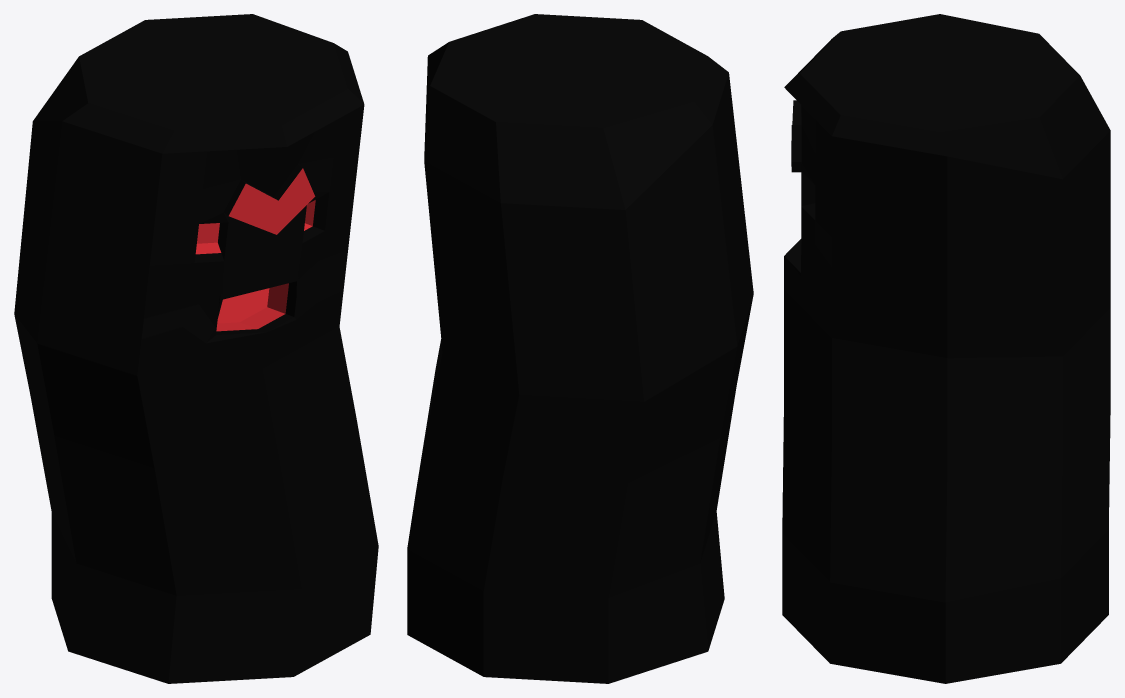
The model's file is Angry bag.glb.
The picture shows the model from 3 angles, left to right: view 1: azimuth 30°, elevation 25°; view 2: azimuth 150°, elevation 25°; view 3: azimuth 270°, elevation 25°; orthographic projection.
Parts seen in each view (by area): view 1: Cylinder; view 2: Cylinder; view 3: Cylinder.
Part boxes in pixels (x1,y1,x2,y2): Cylinder: (14,14,378,683); Cylinder: (407,14,753,683); Cylinder: (782,14,1110,683).
Size of the model in its own units: 2.27 by 3.65 by 2.01.
